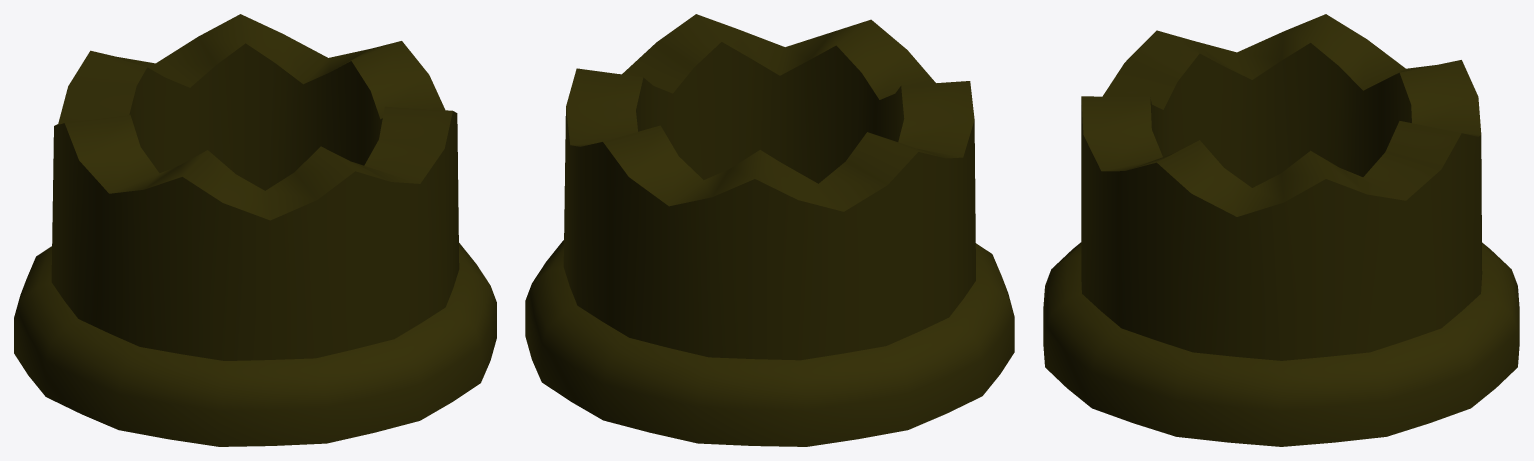
3 views of the same model, side by side, from view 1: azimuth 30°, elevation 25°; view 2: azimuth 150°, elevation 25°; view 3: azimuth 270°, elevation 25° (orthographic).
Visible parts, largest first — view 1: pillar_base; view 2: pillar_base; view 3: pillar_base.
Boxes of the visible parts, x1,y1,x2,y2 form: pillar_base: (14, 14, 496, 446); pillar_base: (525, 14, 1014, 446); pillar_base: (1043, 14, 1519, 446).
Bounding box in the file's own units: 14.43 × 8.14 × 14.17.
